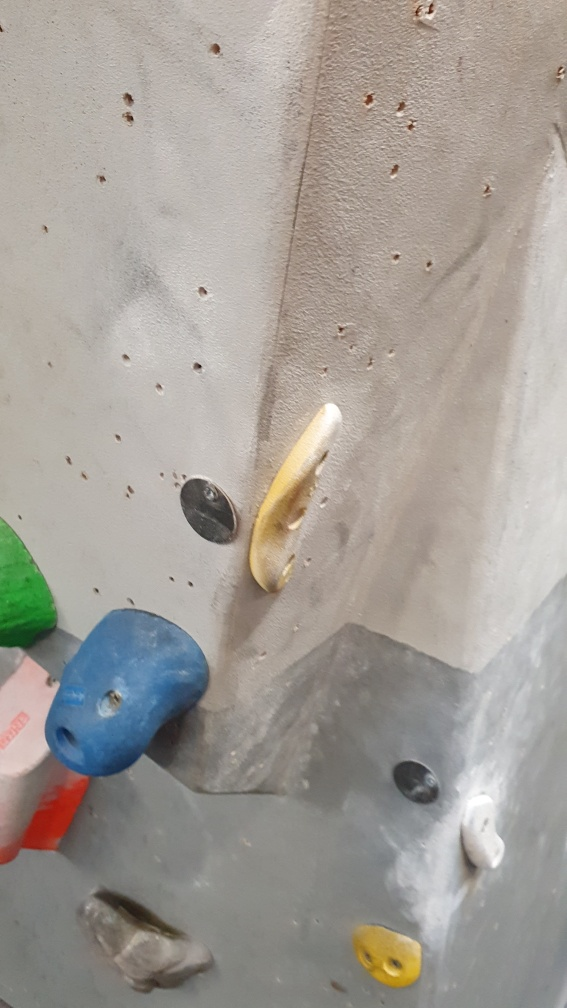Crimp: (250, 398, 346, 598)
Hand Start: (181, 474, 240, 544), (390, 756, 440, 804)
Jug: (76, 883, 216, 995)
Pinch: (1, 654, 102, 867)
Sloper: (45, 605, 208, 778)
